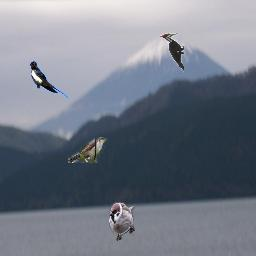Cuckoo: (68, 137, 108, 163)
Sparrow: (109, 202, 135, 242)
Swallow: (29, 61, 69, 98)
Woodpecker: (159, 33, 184, 73)
